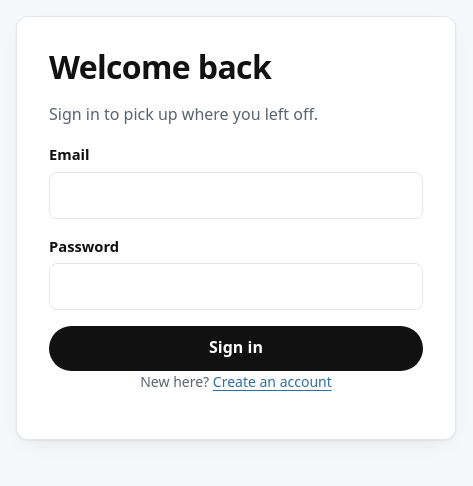
login › puts validation messages next to the right fields
This screenshot has width=473, height=486.
Type "x" into the password field labelled "Password" at {"x": 236, "y": 286}, box [49, 263, 423, 310]
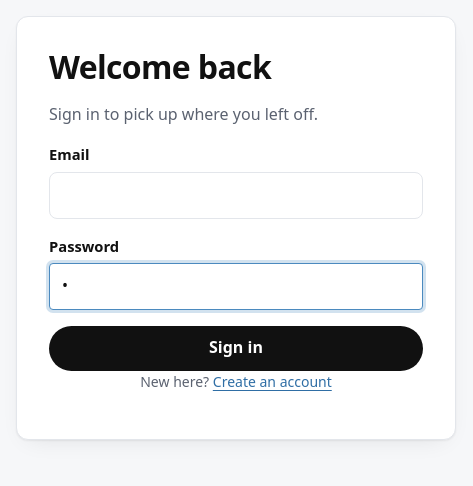
Click the button "Sign in" at {"x": 236, "y": 348}, box [49, 326, 423, 371]
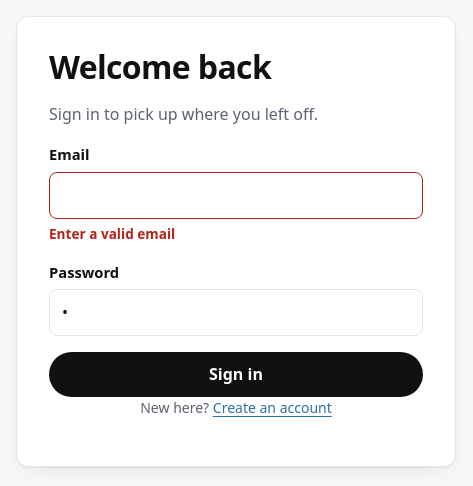
Expected: the text "Enter a valid email" is shown, [49, 224, 175, 243]
